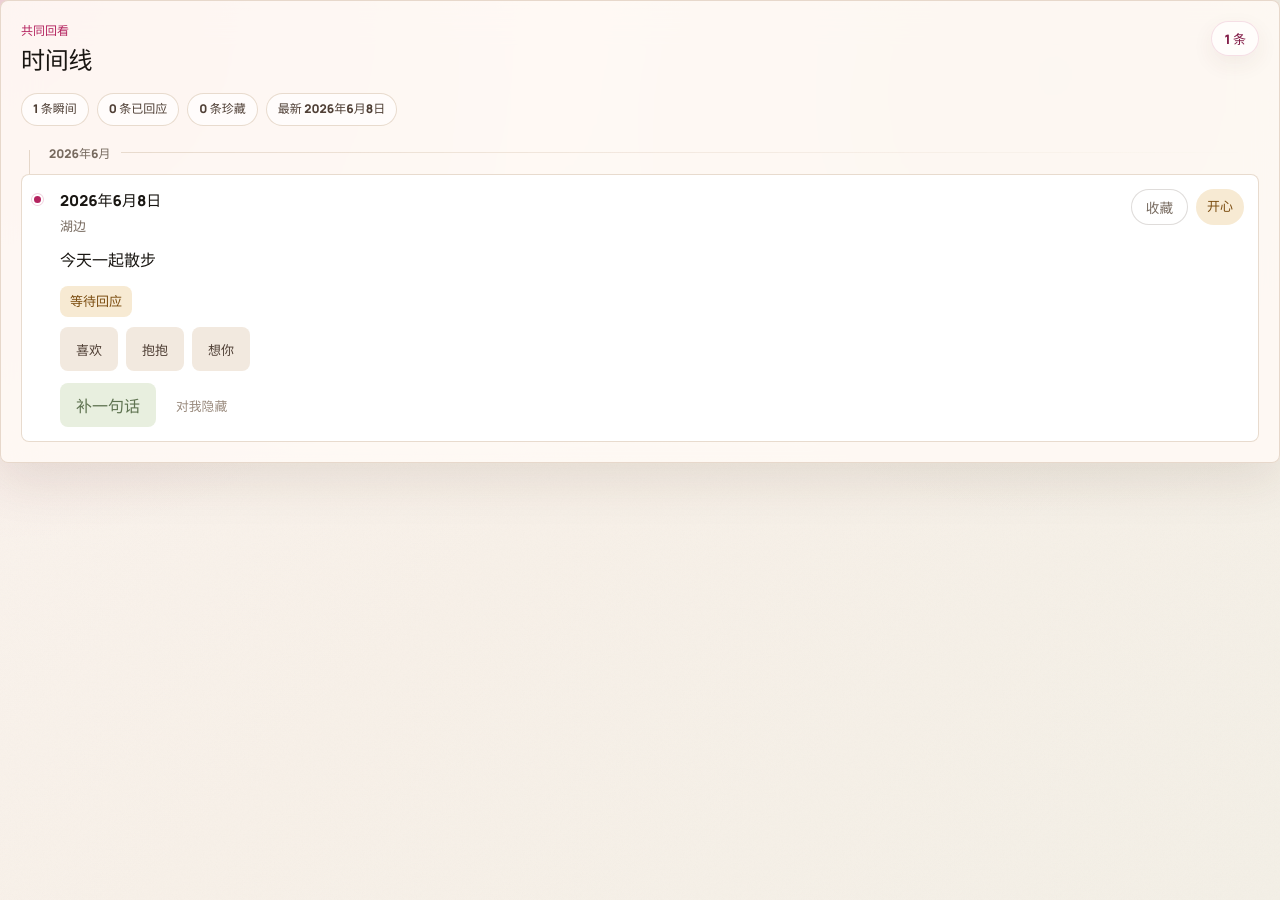
Scenario: Timeline actions › toggles favorite and persists the change
Click the button with aria-label "珍藏" at (1159, 206), box [1131,188,1188,224]
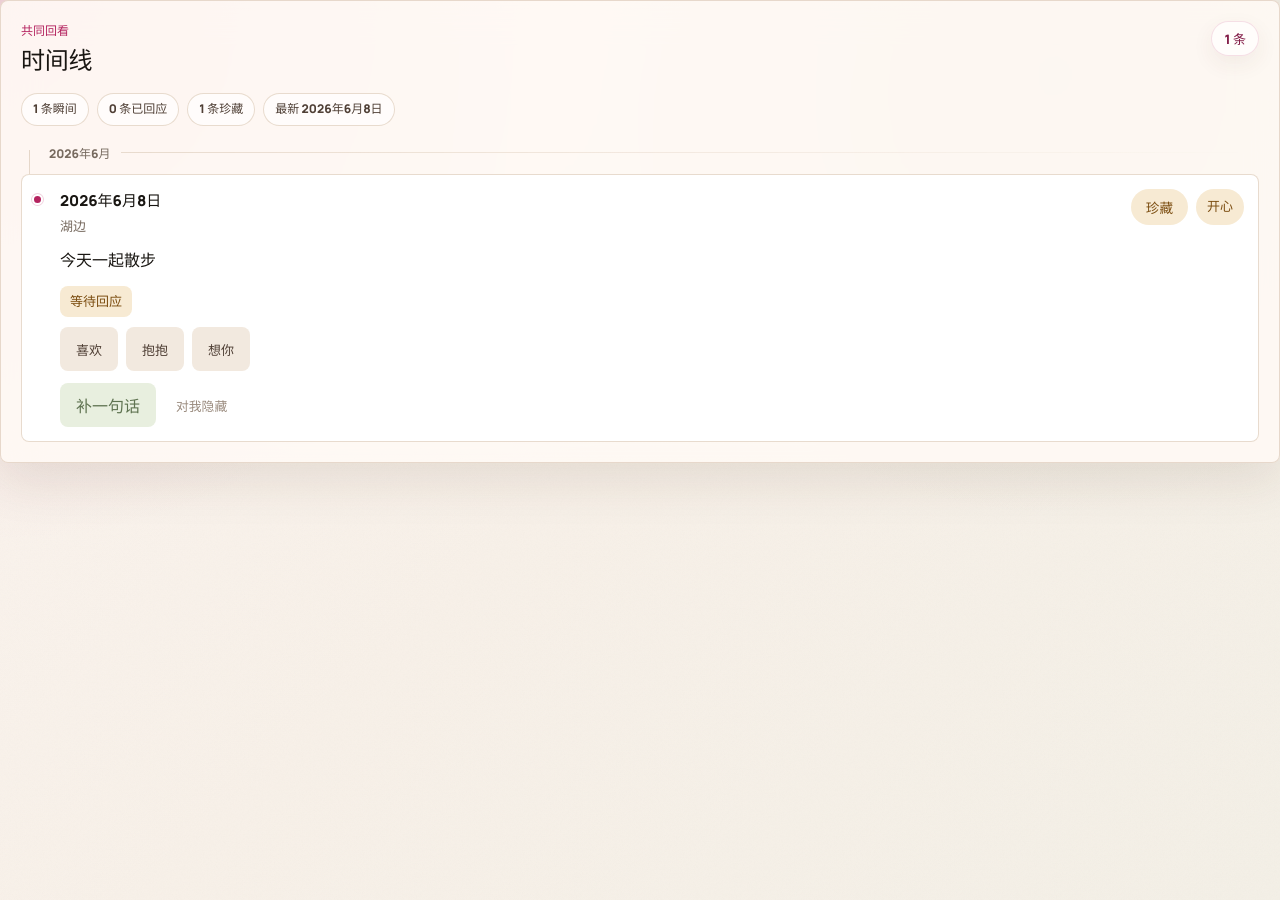
Now the button "珍藏" is shown, box [1131,188,1188,224]
